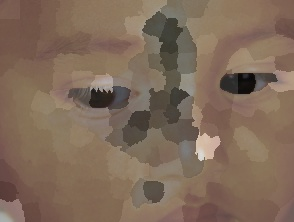vitiligo: (50, 0, 271, 222)
